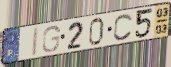0: (88, 16, 106, 47)
2: (66, 19, 85, 52)
5: (134, 7, 155, 39)
C: (112, 13, 134, 42)
G: (41, 25, 61, 53)
I: (30, 25, 40, 59)
